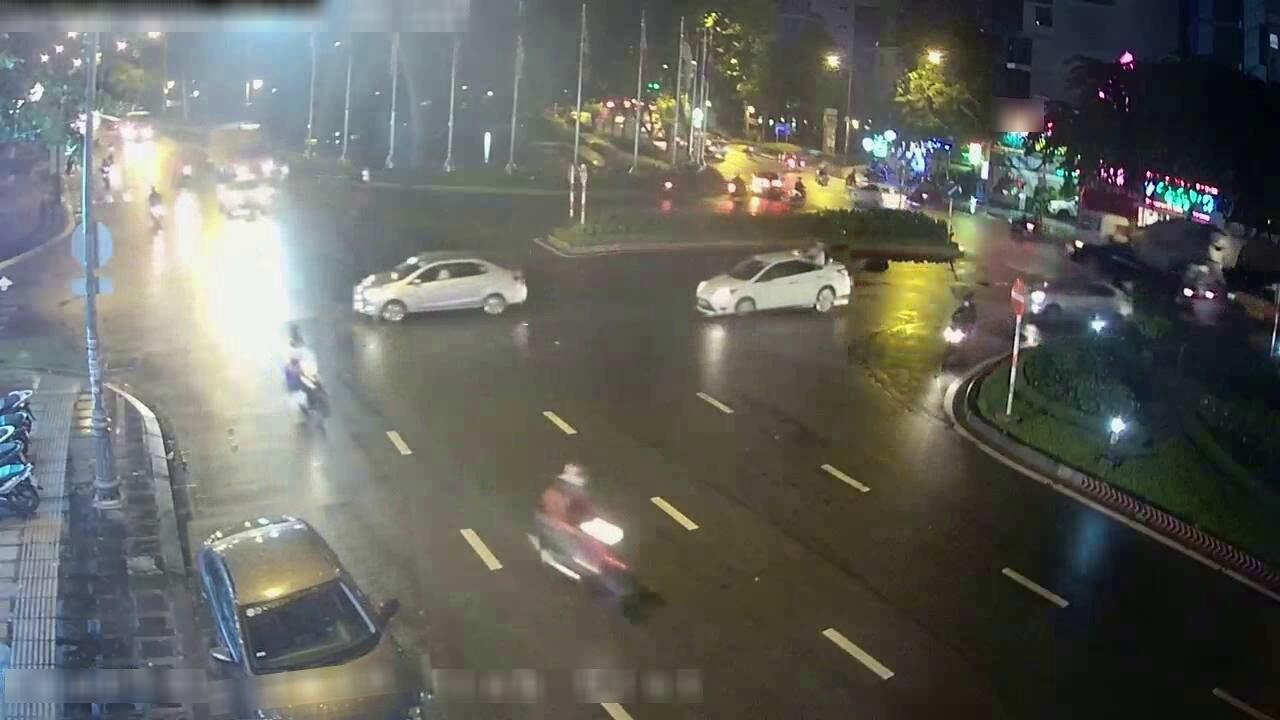Car: (196, 515, 433, 719), (352, 253, 527, 322), (694, 251, 852, 316), (1028, 277, 1132, 331), (209, 121, 288, 181), (1175, 264, 1230, 317), (217, 177, 275, 218)
Motorcycle: (0, 463, 39, 514)
Motorcyclist: (530, 463, 638, 600), (282, 324, 330, 422), (147, 185, 167, 233), (340, 168, 371, 195), (99, 151, 118, 192), (802, 240, 831, 265), (173, 160, 194, 193)
Sign: (1010, 277, 1026, 316)
Traffic light: (1111, 50, 1136, 111)
